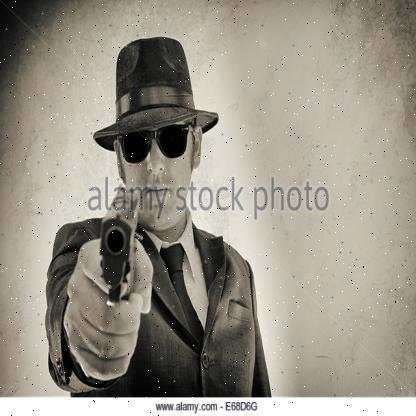pistol: (103, 187, 139, 305)
